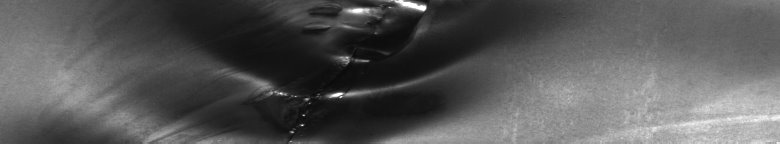ke: (156, 4, 464, 136)
